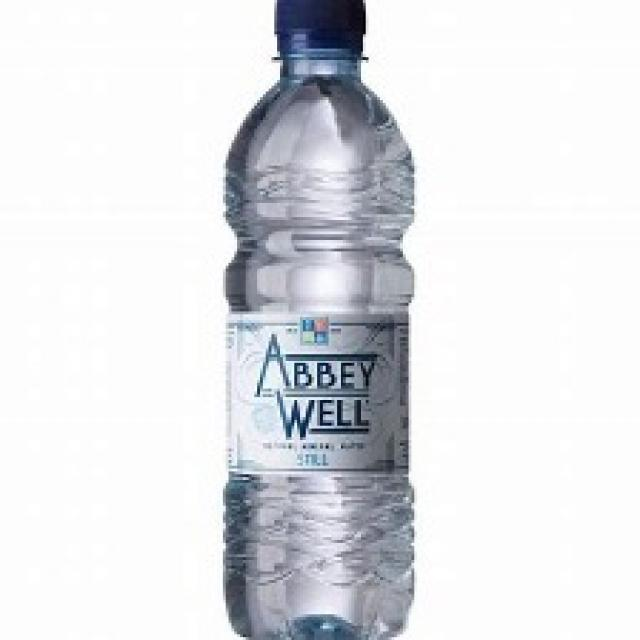plastic_bottle: (224, 3, 415, 640)
